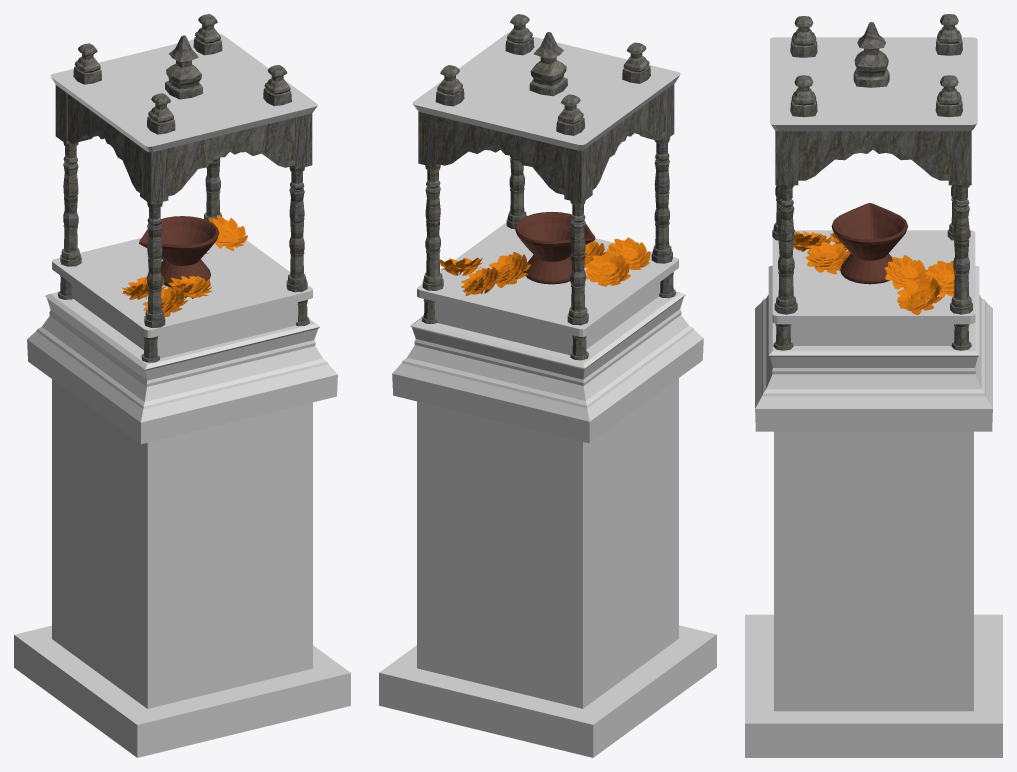
Rendered from DIYA SHRINE.fbx.
3 renders of one model, left to right at view 1: azimuth 30°, elevation 25°; view 2: azimuth 150°, elevation 25°; view 3: azimuth 270°, elevation 25°, orthographic. The views are drawn at different scales.
Visible parts, largest first — view 1: Cube; view 2: Cube; view 3: Cube.
Boxes of the visible parts, x1,y1,x2,y2 form: Cube: (14, 14, 350, 757); Cube: (379, 14, 716, 757); Cube: (745, 14, 1002, 757).
Size of the model in its own units: 35.74 by 104 by 35.74.
4 materials, 1 textured.
